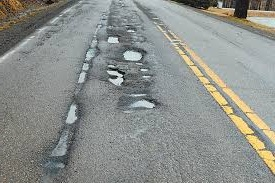pothole: (50, 126, 75, 156), (62, 96, 82, 123), (126, 95, 159, 110), (106, 65, 126, 86), (121, 48, 146, 61), (75, 46, 100, 59), (42, 159, 65, 168), (75, 69, 89, 82), (77, 60, 92, 71), (106, 32, 120, 43), (88, 37, 100, 48), (126, 24, 138, 31), (142, 72, 154, 79), (137, 65, 149, 70)
